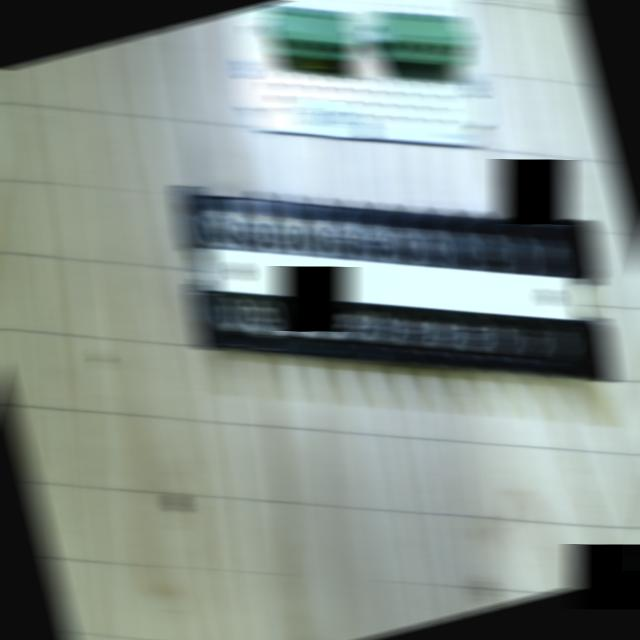Flathead_Block: (162, 187, 626, 379)
Terminal_1: (260, 4, 362, 61), (368, 7, 470, 63)
